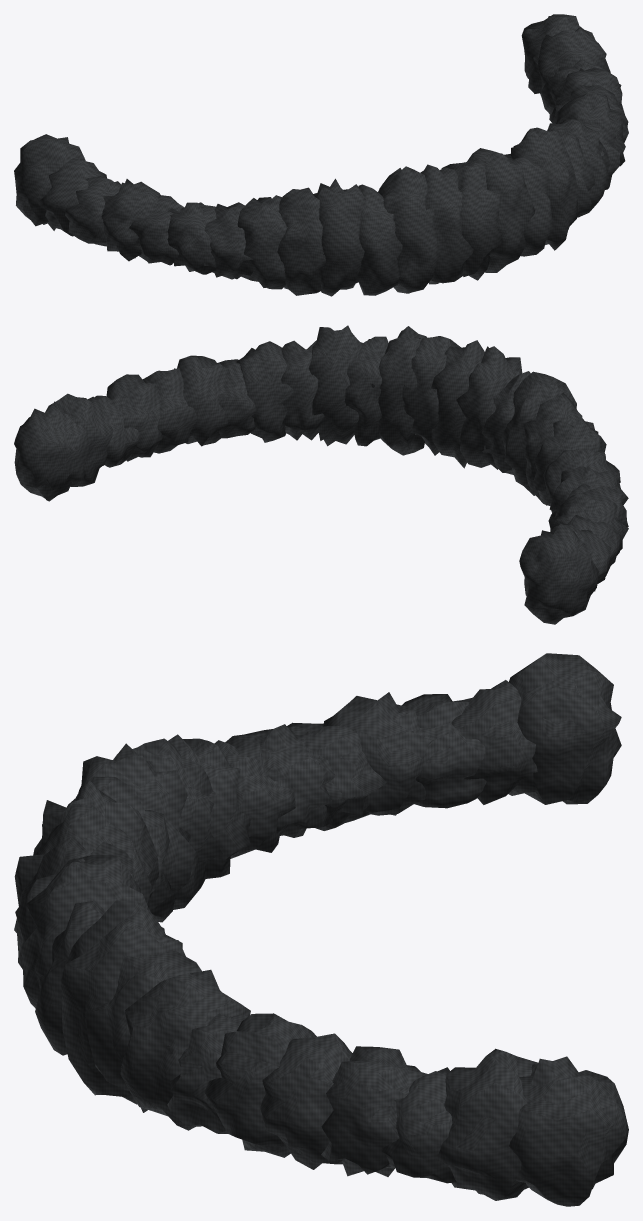
File: Enclosure_Basalt_2.fbx
3 views of the same model, one above another, from view 1: azimuth 30°, elevation 25°; view 2: azimuth 150°, elevation 25°; view 3: azimuth 270°, elevation 25° (orthographic). The views are drawn at different scales.
Visible parts, largest first — view 1: Enclosure_Basalt_2; view 2: Enclosure_Basalt_2; view 3: Enclosure_Basalt_2.
Boxes of the visible parts, x1,y1,x2,y2 form: Enclosure_Basalt_2: (14,14,628,296); Enclosure_Basalt_2: (14,325,628,624); Enclosure_Basalt_2: (14,653,628,1206).
Size of the model in its own units: 116696 by 24757 by 67525.
Materials: 1 (1 with a texture image).
